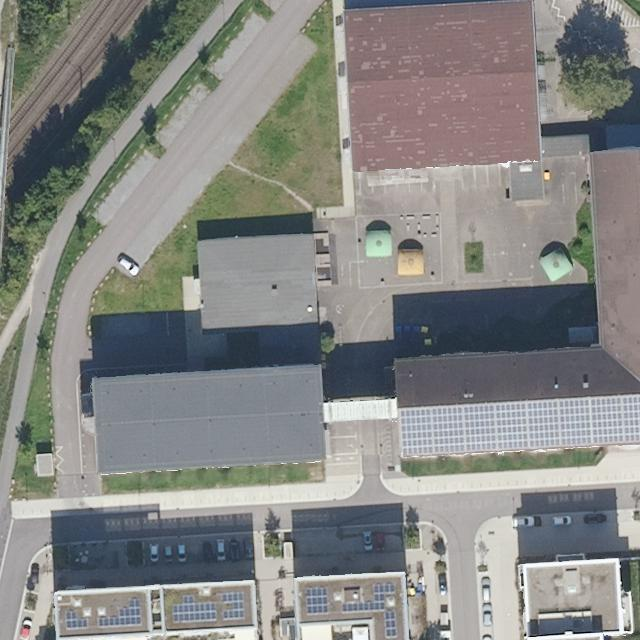PV: (399, 395, 640, 458), (341, 582, 398, 613), (94, 596, 142, 629), (171, 594, 219, 625), (218, 590, 248, 622), (304, 586, 330, 617), (63, 607, 90, 632), (382, 607, 399, 639)
